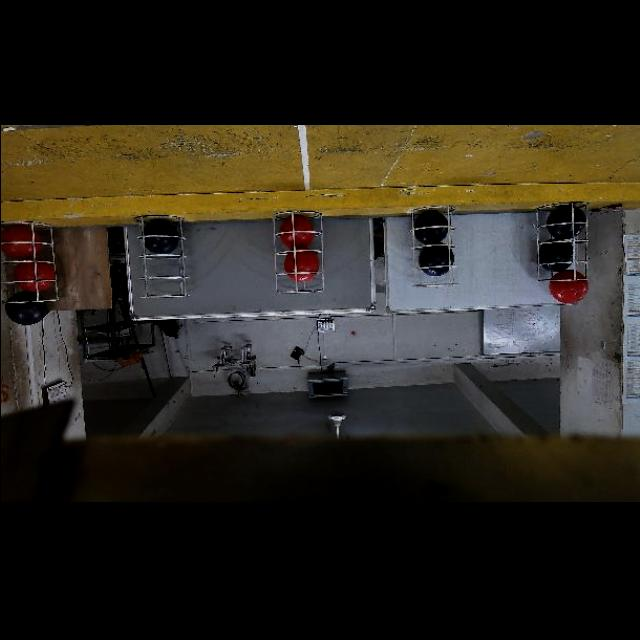P: (4, 290, 47, 324), (546, 202, 585, 239), (136, 218, 177, 252), (413, 209, 447, 243), (417, 244, 452, 276), (538, 240, 572, 272)
R: (0, 223, 41, 259), (548, 268, 588, 302), (12, 261, 54, 291), (283, 249, 319, 281), (279, 214, 313, 247)
S: (0, 217, 60, 311), (532, 202, 594, 282), (268, 212, 326, 294), (136, 213, 192, 295), (412, 203, 456, 291)
